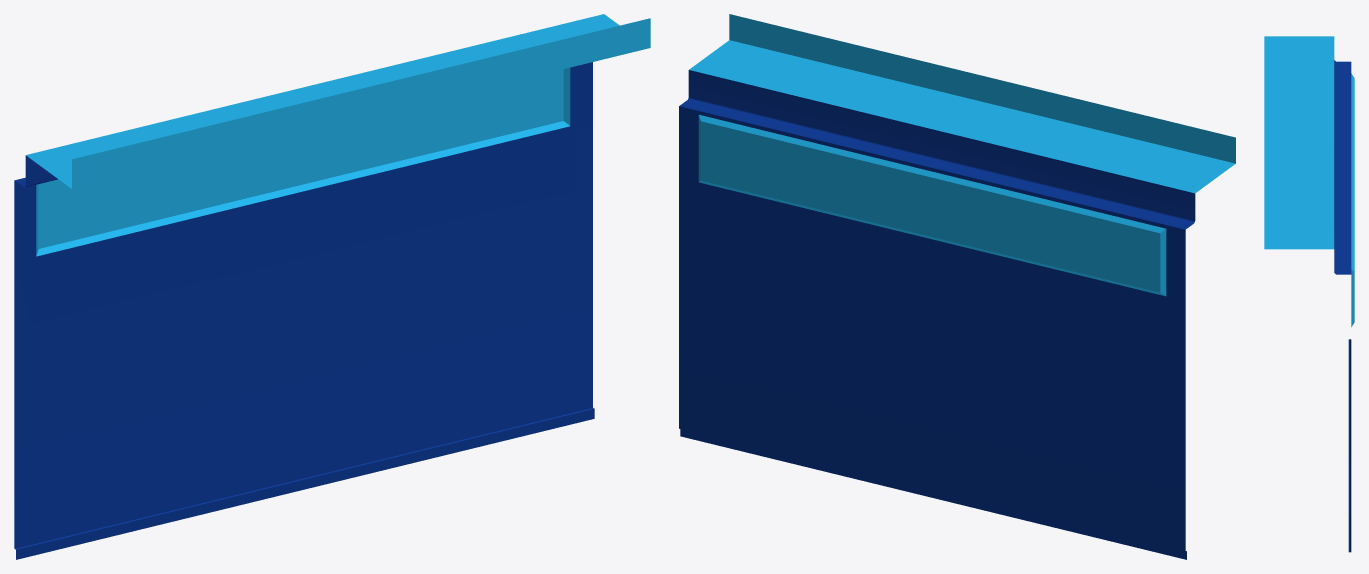
Rendered from Front_Empty_8.fbx.
The picture shows the model from 3 angles, left to right: view 1: azimuth 30°, elevation 25°; view 2: azimuth 150°, elevation 25°; view 3: azimuth 270°, elevation 25°; orthographic projection. The views are drawn at different scales.
Visible parts, largest first — view 1: Front_Empty_8; view 2: Front_Empty_8; view 3: Front_Empty_8.
Boxes of the visible parts, x1,y1,x2,y2 form: Front_Empty_8: (14, 14, 650, 559); Front_Empty_8: (679, 14, 1235, 559); Front_Empty_8: (1264, 36, 1354, 552).
Size of the model in its own units: 800 by 583 by 143.
